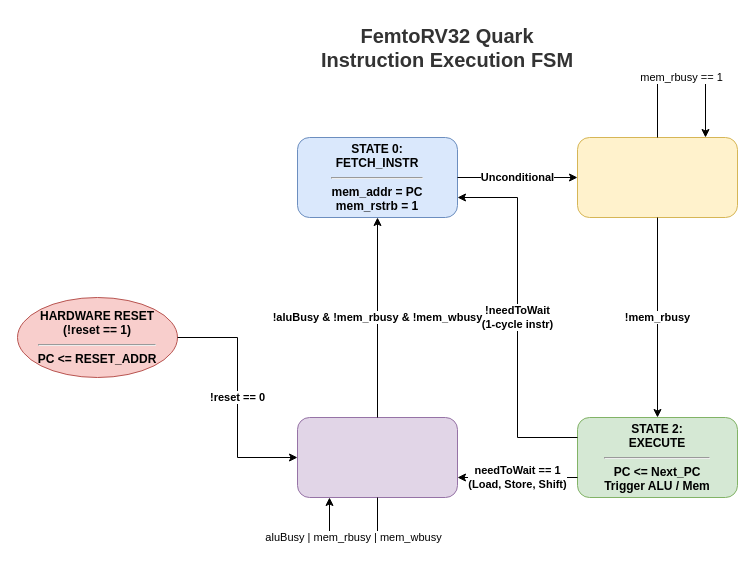
The diagram is 755 pixels wide and 563 high, and some of its shapes have lost their labels. The shapes that lost their labels are listed below. From the top down, each one's box as (x1, y1, x2, y2) in pixels, then its label:
(576, 136, 738, 218): STATE 1: WAIT_INSTR Latch instr, rs1, rs2
(296, 416, 458, 498): STATE 3: WAIT_ALU_OR_MEM Stall for multicycle Register Writeback
